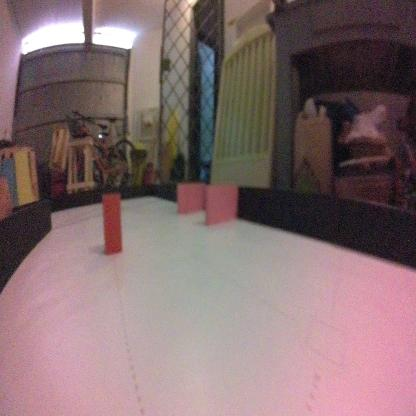magenta: (205, 184, 240, 224), (176, 180, 206, 214)
red: (101, 189, 123, 257)
